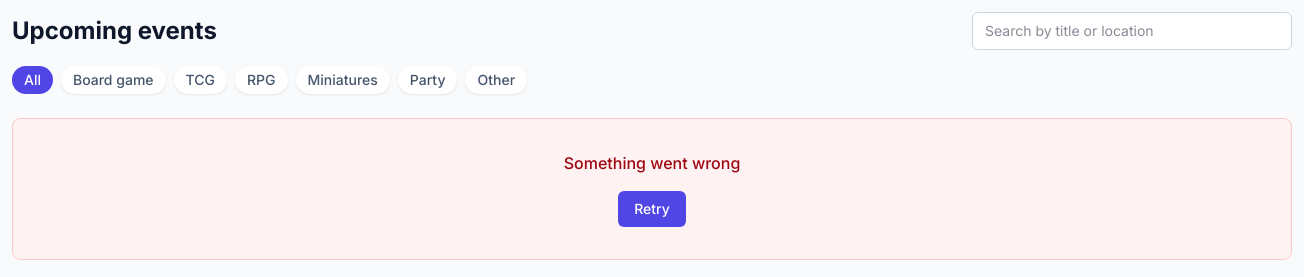
Test case: EventList › shows the error state and recovers on retry
Expected: the message shows "Something went wrong", [564,153,740,173]
Step 1. Click the button "Retry" → [652, 209], box [618,191,686,227]
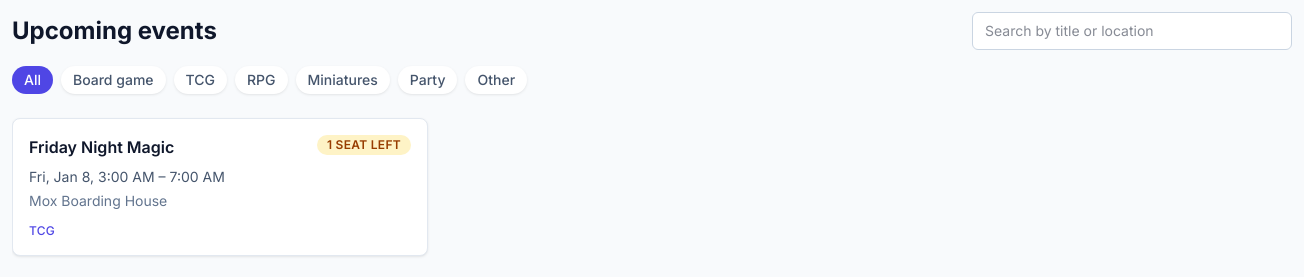
Now the heading "Friday Night Magic" is shown, box [29,135,174,159]
